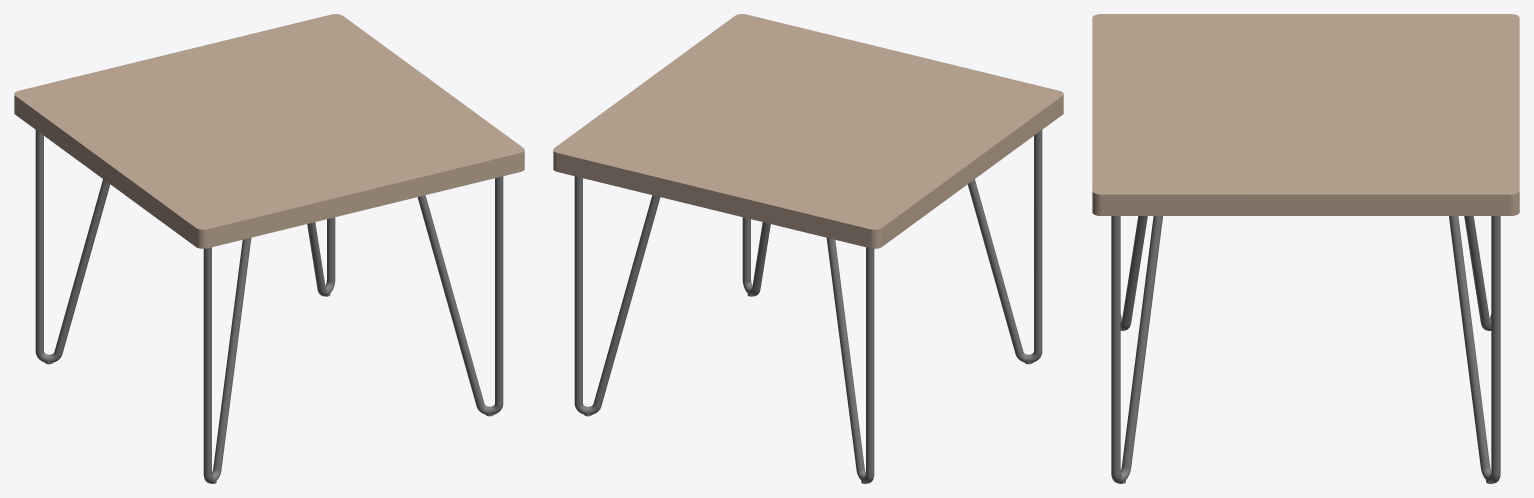
The model's file is 558_ダイニングテーブル2人掛け.glb.
3 views of the same model, side by side, from view 1: azimuth 30°, elevation 25°; view 2: azimuth 150°, elevation 25°; view 3: azimuth 270°, elevation 25° (orthographic). The views are drawn at different scales.
Parts seen in each view (by area): view 1: Body; view 2: Body; view 3: Body.
Boxes of the visible parts, x1,y1,x2,y2 form: Body: (14, 14, 524, 483); Body: (553, 14, 1063, 483); Body: (1092, 14, 1519, 483).
Size of the model in its own units: 0.9 by 0.7 by 0.9.
